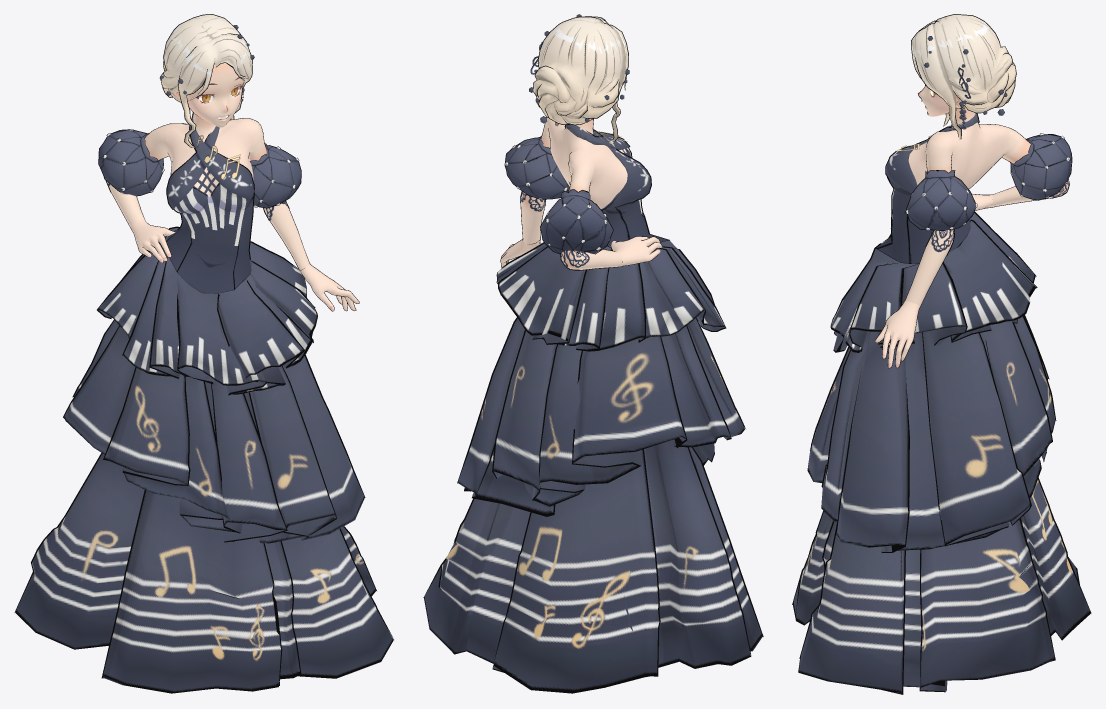
The model's file is SK_Cartoon_27.gltf.
3 views of the same model, side by side, from view 1: azimuth 30°, elevation 25°; view 2: azimuth 150°, elevation 25°; view 3: azimuth 270°, elevation 25° (orthographic). The views are drawn at different scales.
Visible parts, largest first — view 1: SK_Cartoon_Female_027_pose_21_StaticMeshComponent0; view 2: SK_Cartoon_Female_027_pose_21_StaticMeshComponent0; view 3: SK_Cartoon_Female_027_pose_21_StaticMeshComponent0.
Part boxes in pixels (x1=…): SK_Cartoon_Female_027_pose_21_StaticMeshComponent0: x1=14, y1=14, x2=393, y2=693; SK_Cartoon_Female_027_pose_21_StaticMeshComponent0: x1=423, y1=14, x2=763, y2=693; SK_Cartoon_Female_027_pose_21_StaticMeshComponent0: x1=792, y1=14, x2=1091, y2=694.
Size of the model in its own units: 0.9121 by 1.68 by 0.738.
2 materials, 1 textured.
